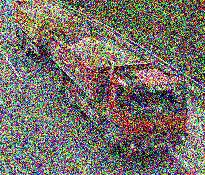truck: (11, 0, 189, 156)
